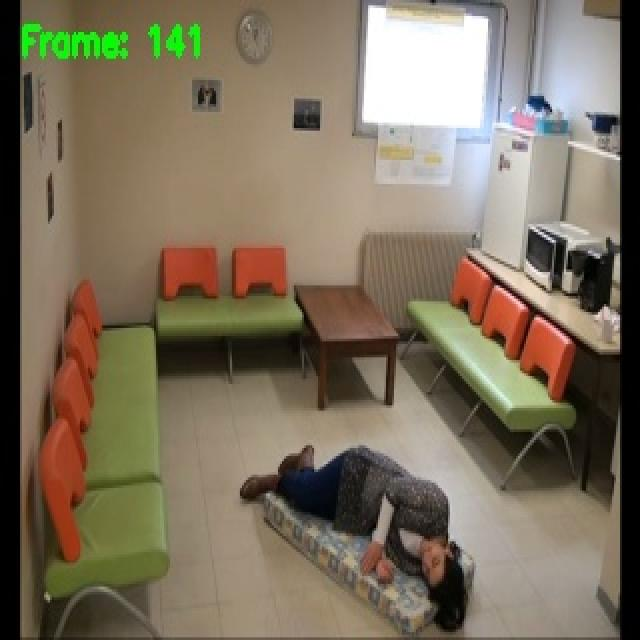Fall-Detected: (238, 434, 469, 632)
